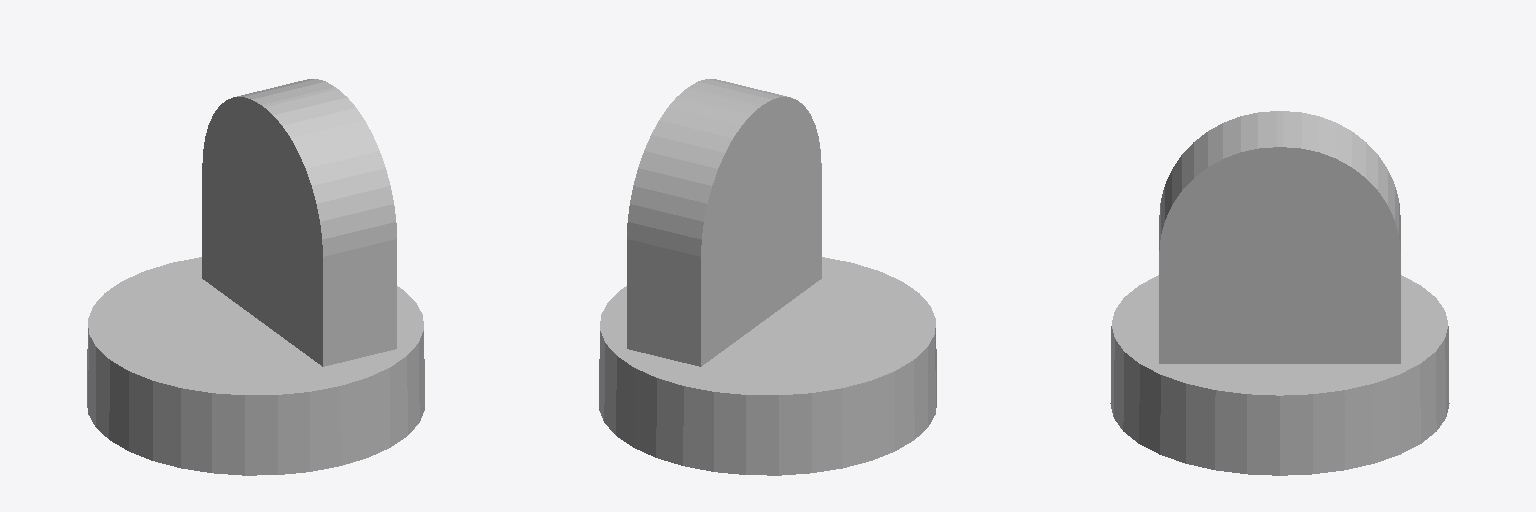
File: RotatingBase.obj
3 renders of one model, left to right at view 1: azimuth 30°, elevation 25°; view 2: azimuth 150°, elevation 25°; view 3: azimuth 270°, elevation 25°, orthographic.
Parts seen in each view (by area): view 1: RotatingBase_Cylinder.006; view 2: RotatingBase_Cylinder.006; view 3: RotatingBase_Cylinder.006.
Boxes of the visible parts, x1=… form: RotatingBase_Cylinder.006: x1=87, y1=79, x2=424, y2=475; RotatingBase_Cylinder.006: x1=599, y1=79, x2=936, y2=475; RotatingBase_Cylinder.006: x1=1110, y1=111, x2=1449, y2=475.
Bounding box in the file's own units: 1.79 × 1.73 × 1.79.